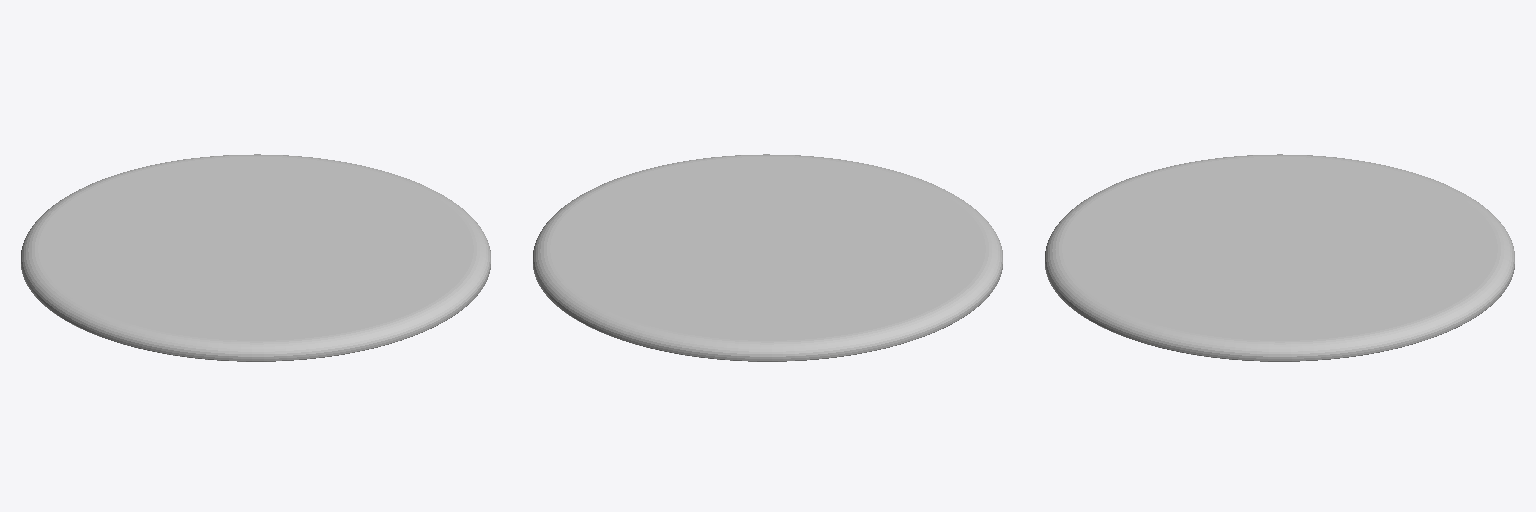
Rendered from hopsalnia.OBJ.
The picture shows the model from 3 angles: view 1: azimuth 30°, elevation 25°; view 2: azimuth 150°, elevation 25°; view 3: azimuth 270°, elevation 25°; orthographic projection.
Bounding box in the file's own units: 300 × 10.05 × 300.